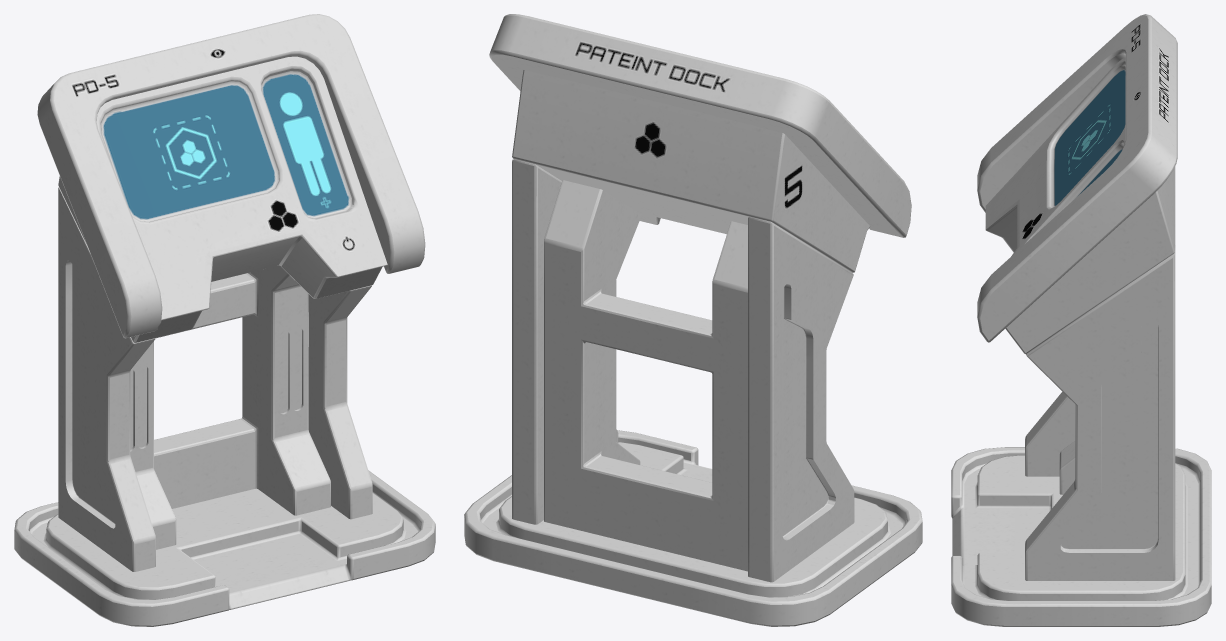
File: patient_dock_terminal.glb
The picture shows the model from 3 angles, left to right: view 1: azimuth 30°, elevation 25°; view 2: azimuth 150°, elevation 25°; view 3: azimuth 270°, elevation 25°; orthographic projection. The views are drawn at different scales.
Visible parts, largest first — view 1: Display Unit.001_0; view 2: Display Unit.001_0; view 3: Display Unit.001_0.
Part boxes in pixels (x1,y1,x2,y2): Display Unit.001_0: (14,14,435,626); Display Unit.001_0: (464,14,922,626); Display Unit.001_0: (951,14,1211,626).
Bounding box in the file's own units: 2.21 × 3.07 × 1.54.
1 material, 1 textured.
